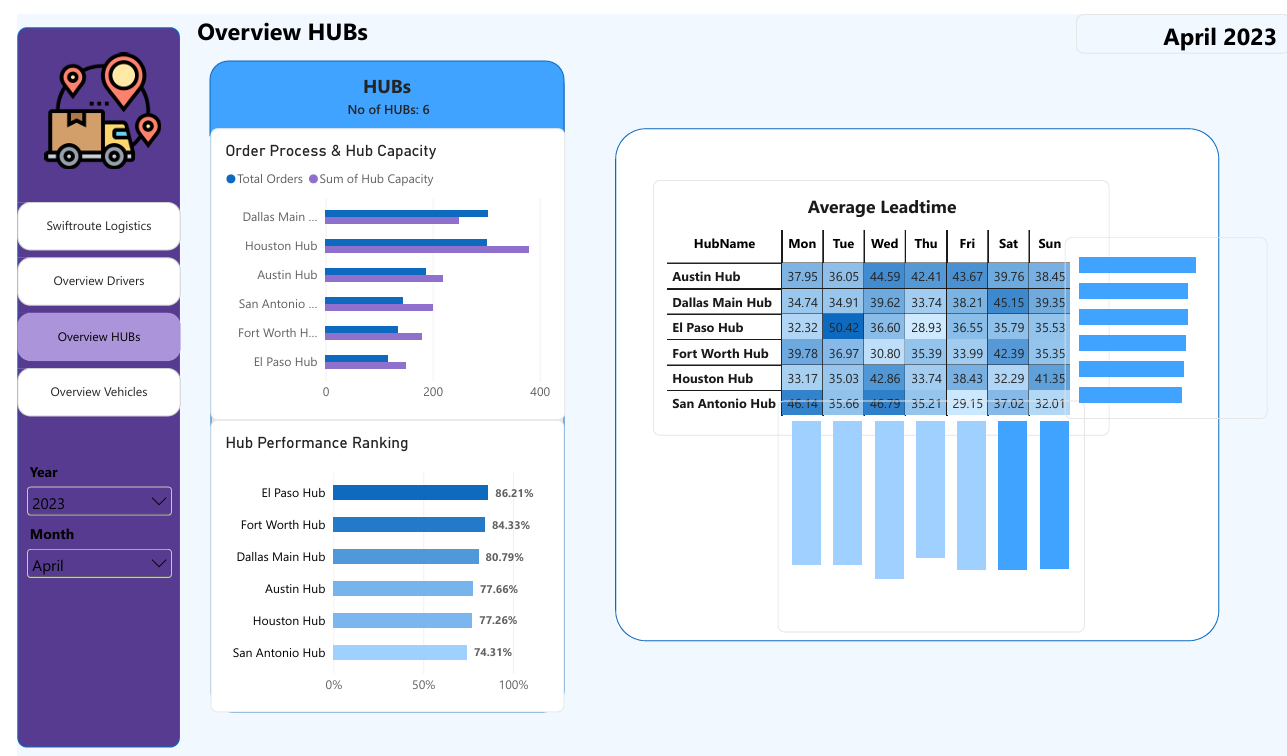

The page's visual inventory and layout, read from the dashboard file:
{"tool":"powerbi","page":{"name":"Overview HUBs","canvas":[1450,850],"ordinal":2},"visuals":[{"type":"shape","title":"Experience & Rating","box":[681.4,130,687.1,584.3],"z":0},{"type":"textbox","box":[204.8,0,248.2,44.8],"z":2000},{"type":"cardVisual","fields":{"Data":["Measure.Year Month tilte"]},"box":[1206.3,0,244.1,45.1],"z":5000},{"type":"shape","box":[219.2,56.6,403,738],"z":5000,"group":"g1"},{"type":"group","id":"g1","title":"Group 2","box":[218.6,52.9,404.9,741.9],"z":6000},{"type":"shape","box":[218.7,52.9,404.3,85.7],"z":6000,"group":"g1"},{"type":"textbox","box":[218.6,67.3,403.9,35.3],"z":7000,"group":"g1"},{"type":"pivotTable","title":"Average Leadtime","fields":{"Columns":["Date.Day name"],"Rows":["Hubs.HubName"],"Values":["Measure.avg leadtime"]},"box":[724.3,188.6,520,291.4],"z":7000},{"type":"cardVisual","fields":{"Data":["Measure.NO of Hubs"]},"box":[359.2,84.5,146.6,46.5],"z":8000,"group":"g1"},{"type":"columnChart","fields":{"Category":["Date.Day name"],"Y":["Measure.avg leadtime"]},"box":[865.7,440,350,264.3],"z":8000},{"type":"clusteredBarChart","title":"Order Process & Hub Capacity","fields":{"Category":["Hubs.HubName"],"Y":["Measure.Total Orders","Sum(Hubs.Hub Capacity)"]},"box":[219.2,130.2,404.3,331.4],"z":9000,"group":"g1"},{"type":"barChart","fields":{"Category":["Hubs.HubName"],"Y":["Measure.avg leadtime"]},"box":[1192.9,254.3,231.4,207.1],"z":9000},{"type":"shape","box":[0,14.9,185,820],"z":9001},{"type":"slicer","fields":{"Values":["Date.Year"]},"box":[5.7,510,174.9,71.9],"z":9002},{"type":"slicer","fields":{"Values":["Date.Month"]},"box":[5.7,581.4,174.9,71.9],"z":9003},{"type":"pageNavigator","box":[0,214.3,185.7,244.3],"z":9004},{"type":"image","box":[14.3,44.3,165.7,132.9],"z":9005},{"type":"barChart","title":"Hub Performance Ranking","fields":{"Category":["Hubs.HubName"],"Y":["Measure.OTIF"]},"box":[220,462,402.9,332.9],"z":10000,"group":"g1"}]}

Visuals, with their boxes in screenshot pixels (x1, y1, x2, y2), scaled from the page's 1450x850 canvas onto the 1287x756 screenshot:
"Experience & Rating" shape: (605,116,1215,635)
textbox: (182,0,402,40)
cardVisual - Measure.Year Month tilte: (1071,0,1286,40)
shape: (195,50,552,707)
"Group 2" group: (194,47,553,707)
shape: (194,47,553,123)
textbox: (194,60,553,91)
"Average Leadtime" pivotTable: (643,168,1104,427)
cardVisual - Measure.NO of Hubs: (319,75,449,117)
columnChart - Date.Day name x Measure.avg leadtime: (768,391,1079,626)
"Order Process & Hub Capacity" clusteredBarChart: (195,116,553,411)
barChart - Hubs.HubName x Measure.avg leadtime: (1059,226,1264,410)
shape: (0,13,164,743)
slicer - Date.Year: (5,454,160,518)
slicer - Date.Month: (5,517,160,581)
pageNavigator: (0,191,165,408)
image: (13,39,160,158)
"Hub Performance Ranking" barChart: (195,411,553,707)
